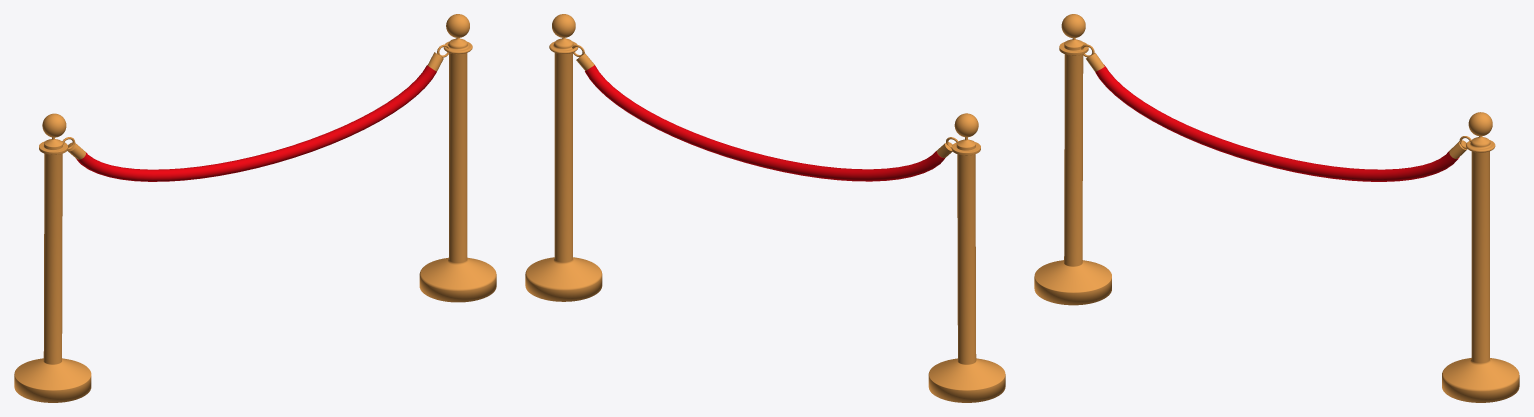
File: redve.glb
The picture shows the model from 3 angles, left to right: view 1: azimuth 30°, elevation 25°; view 2: azimuth 150°, elevation 25°; view 3: azimuth 330°, elevation 25°; orthographic projection.
Parts seen in each view (by area): view 1: Circle.002, Circle, Circle.003, Sphere.001, Sphere; view 2: Circle.002, Circle, Circle.003, Sphere.001, Sphere; view 3: Circle.002, Circle, Circle.003, Sphere, Sphere.001.
Part boxes in pixels (<box>): Circle.002: <box>14,52,443,402</box>; Circle: <box>419,38,496,302</box>; Circle.003: <box>76,65,436,181</box>; Sphere.001: <box>42,113,66,137</box>; Sphere: <box>446,14,469,37</box>; Circle.002: <box>576,53,1005,402</box>; Circle: <box>525,38,602,301</box>; Circle.003: <box>585,65,944,181</box>; Sphere.001: <box>954,113,978,137</box>; Sphere: <box>552,14,575,37</box>; Circle.002: <box>1034,38,1467,305</box>; Circle: <box>1442,136,1519,402</box>; Circle.003: <box>1095,65,1459,181</box>; Sphere: <box>1468,112,1492,136</box>; Sphere.001: <box>1061,14,1085,38</box>.
Size of the model in its own units: 1.77 by 0.9789 by 0.2535.
